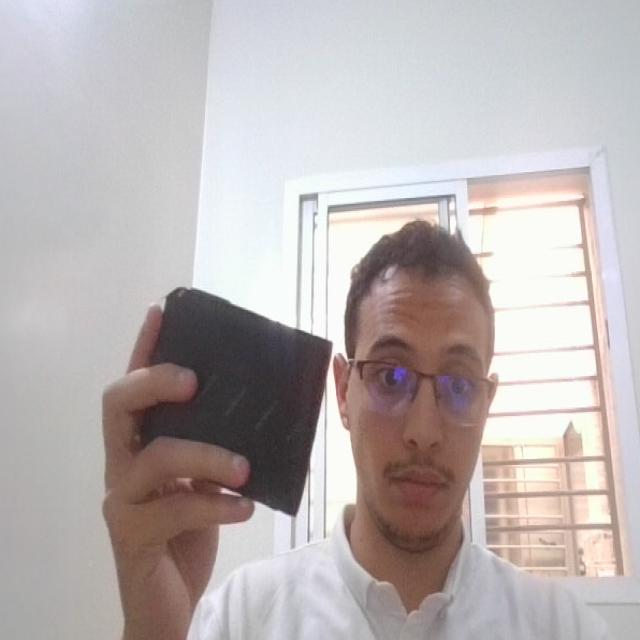wallet: (127, 276, 339, 524)
